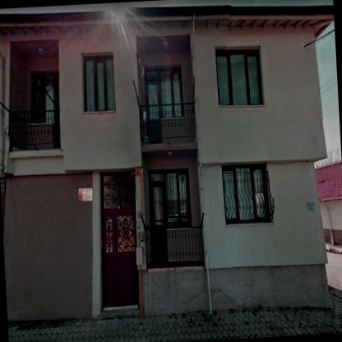door: (97, 208, 140, 305), (148, 185, 168, 261), (145, 81, 162, 143), (53, 84, 62, 146)
